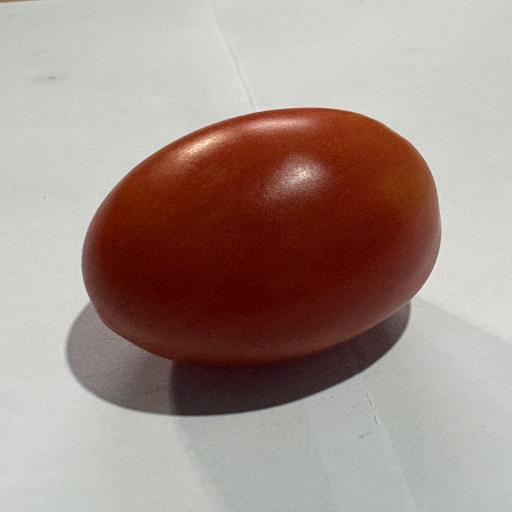ripe: (83, 108, 440, 365)
